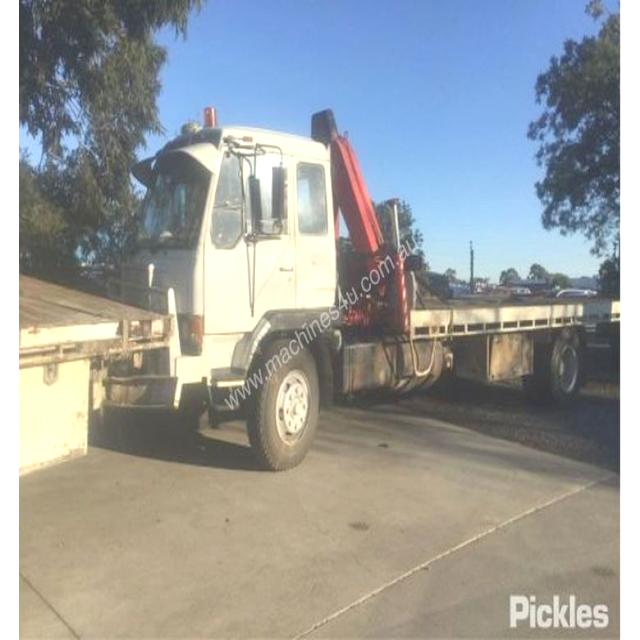truck: (100, 106, 620, 479)
